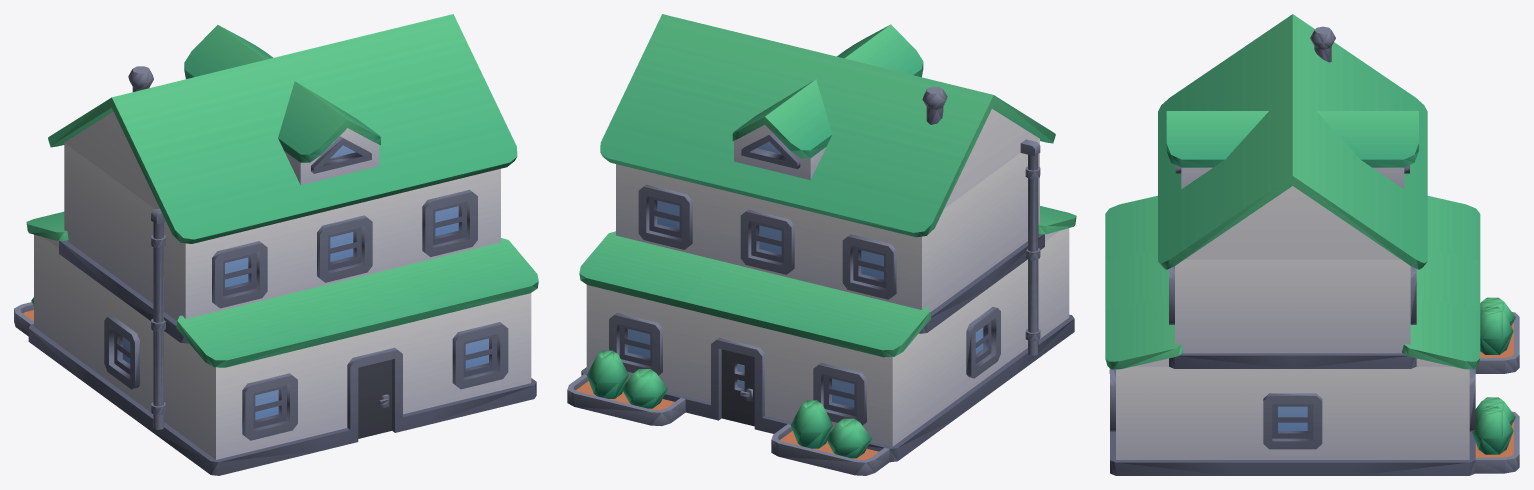
Rendered from ks_house_t.fbx.
3 renders of one model, left to right at view 1: azimuth 30°, elevation 25°; view 2: azimuth 150°, elevation 25°; view 3: azimuth 270°, elevation 25°, orthographic. The views are drawn at different scales.
Parts seen in each view (by area): view 1: ks_house_t_LOD0; view 2: ks_house_t_LOD0; view 3: ks_house_t_LOD0.
Part boxes in pixels (left/top/right/bottom): ks_house_t_LOD0: left=14, top=14, right=538, bottom=475; ks_house_t_LOD0: left=567, top=14, right=1076, bottom=475; ks_house_t_LOD0: left=1105, top=14, right=1519, bottom=475.
Size of what is drawn, in the model's own units: 11.17 by 9.83 by 11.95.
